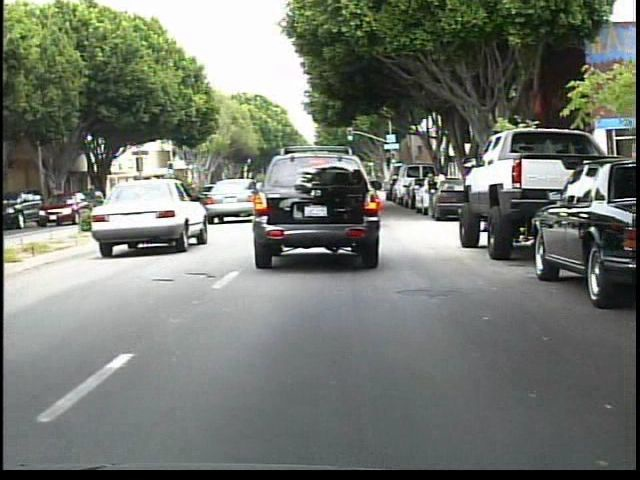person: (423, 174, 440, 222), (432, 166, 448, 212)
